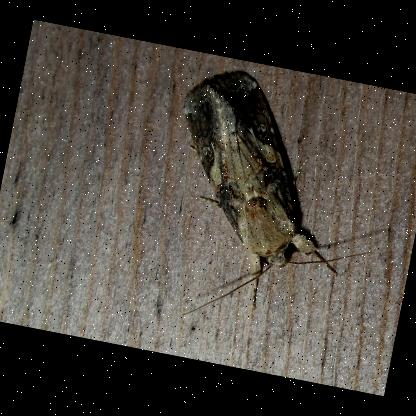Fall Armyworm Moth: (142, 60, 403, 352)
